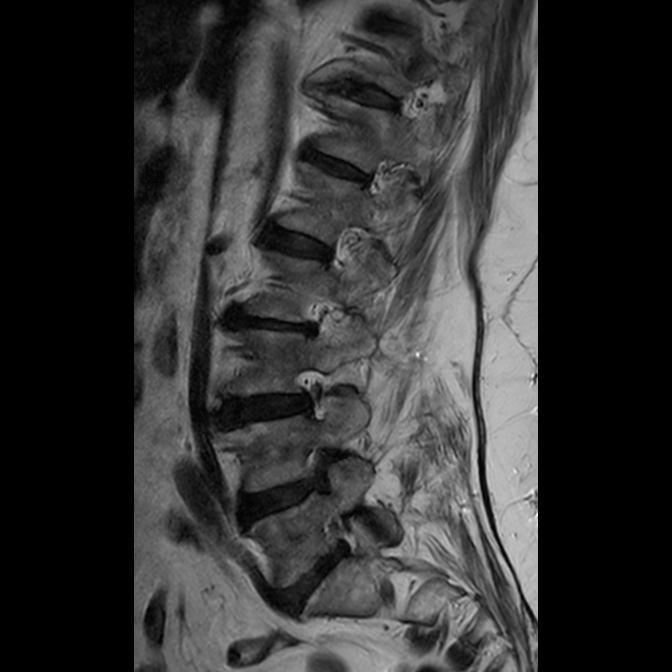RFS0: (282, 357, 332, 429)
